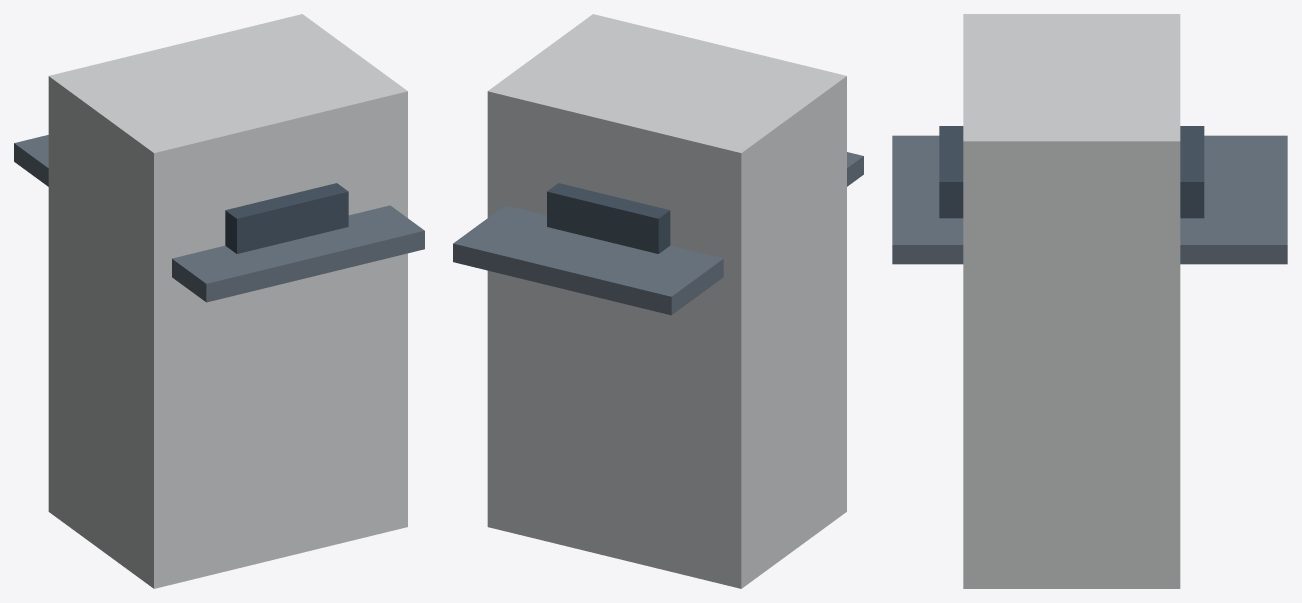
File: fuse_holder.glb
3 views of the same model, side by side, from view 1: azimuth 30°, elevation 25°; view 2: azimuth 150°, elevation 25°; view 3: azimuth 270°, elevation 25° (orthographic). The views are drawn at different scales.
Visible parts, largest first — view 1: fuse_holder_0, fuse_holder_1, fuse_holder_3; view 2: fuse_holder_0, fuse_holder_1, fuse_holder_3; view 3: fuse_holder_0, fuse_holder_1, fuse_holder_3.
Part boxes in pixels (<box>): fuse_holder_0: <box>48,14,407,588</box>; fuse_holder_1: <box>14,135,424,302</box>; fuse_holder_3: <box>225,183,348,253</box>; fuse_holder_0: <box>487,14,846,588</box>; fuse_holder_1: <box>453,152,863,315</box>; fuse_holder_3: <box>547,183,670,253</box>; fuse_holder_0: <box>963,14,1180,588</box>; fuse_holder_1: <box>892,135,1287,264</box>; fuse_holder_3: <box>939,126,1204,218</box>.
Size of the model in its own units: 0.5 by 0.82 by 0.656.
